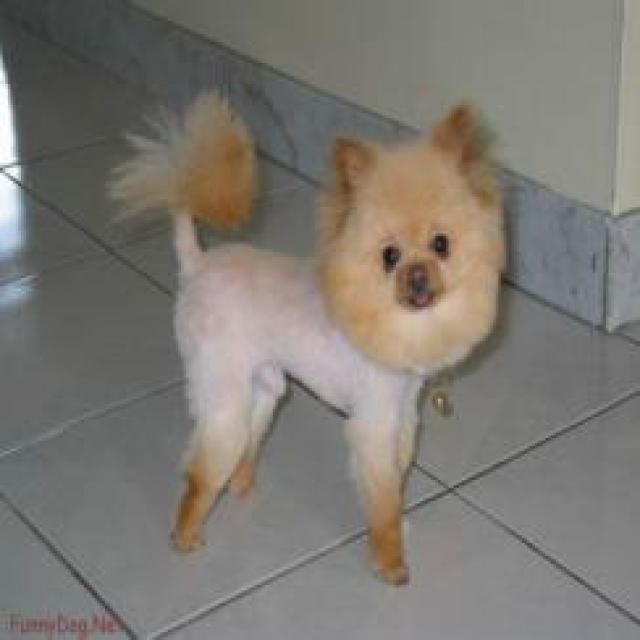fungal infection: (168, 469, 206, 544)
